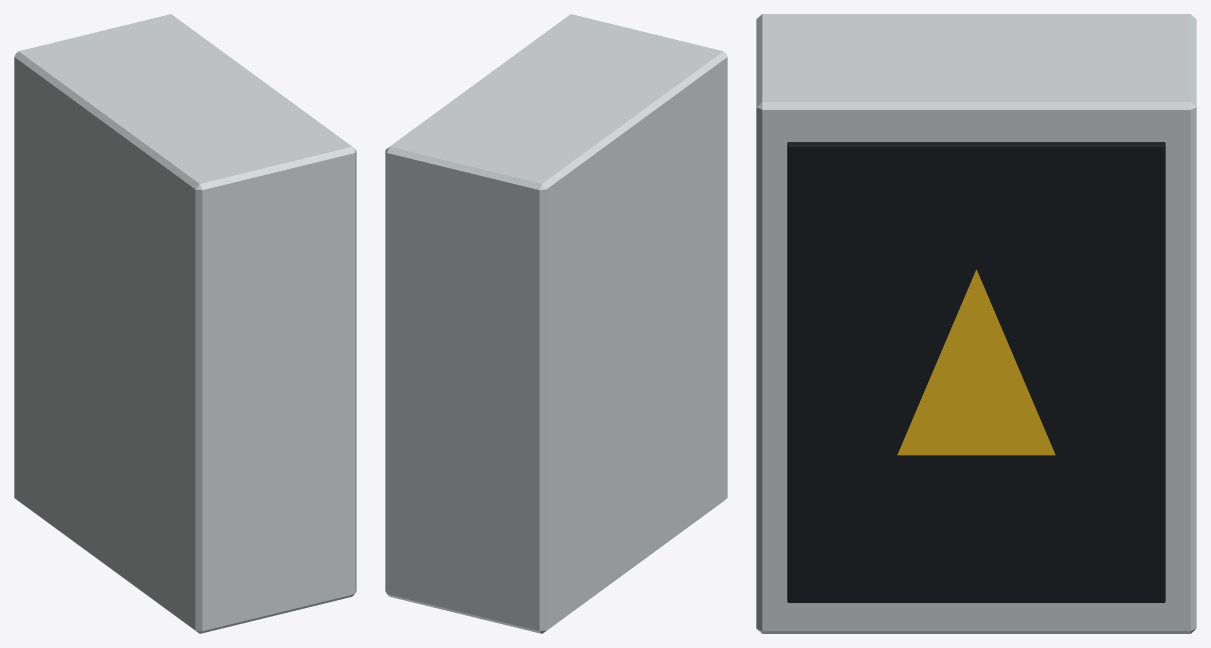
The model's file is SM_MP_Power_WallJunction.fbx.
3 renders of one model, left to right at view 1: azimuth 30°, elevation 25°; view 2: azimuth 150°, elevation 25°; view 3: azimuth 270°, elevation 25°, orthographic. The views are drawn at different scales.
Parts seen in each view (by area): view 1: SM_MP_Power_WallJunction; view 2: SM_MP_Power_WallJunction; view 3: SM_MP_Power_WallJunction.
Part boxes in pixels (bbox=[...]): SM_MP_Power_WallJunction: bbox=[14, 14, 356, 633]; SM_MP_Power_WallJunction: bbox=[385, 14, 727, 633]; SM_MP_Power_WallJunction: bbox=[756, 14, 1196, 633].
Bounding box in the file's own units: 31.6 × 60 × 80.
